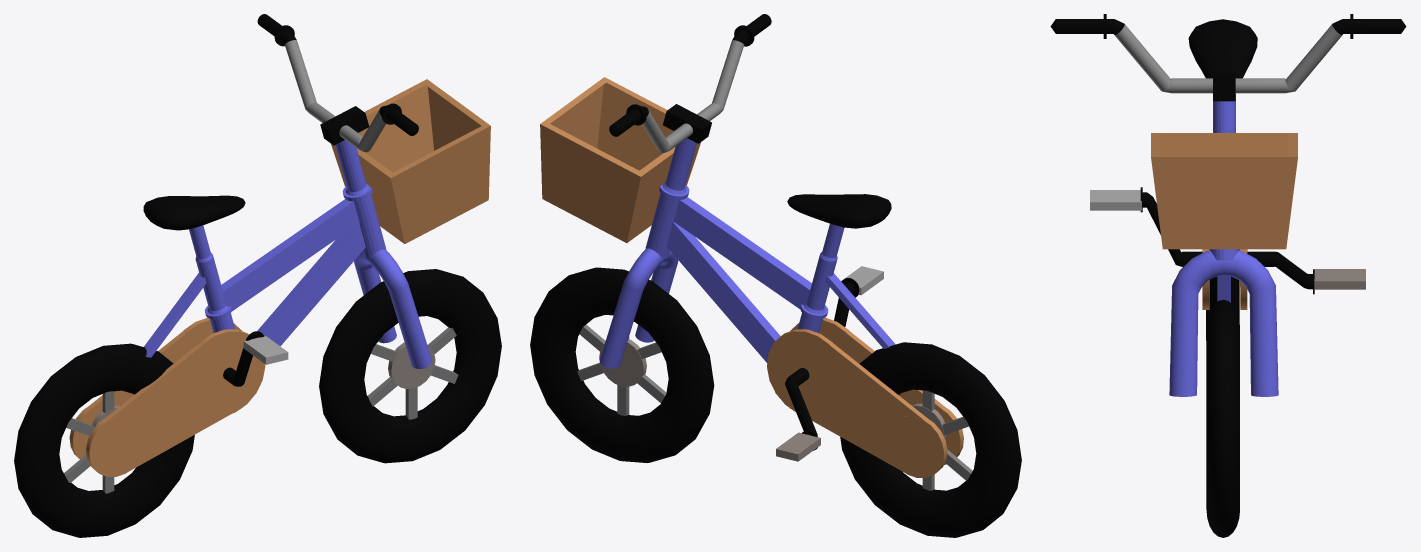
File: cycle.fbx
3 renders of one model, left to right at view 1: azimuth 30°, elevation 25°; view 2: azimuth 150°, elevation 25°; view 3: azimuth 270°, elevation 25°, orthographic. The views are drawn at different scales.
Visible parts, largest first — view 1: pTorus2, pTorus3, pCube6, pCylinder5, pCube1, pCube2, pTorus1, pCube4, pCylinder1, pCylinder6, pCylinder2, pCylinder8 (+8 smaller); view 2: pTorus2, pTorus3, pCube6, pCylinder6, pCube1, pCube2, pTorus1, pCube4, pCylinder1, pCylinder5, pCylinder2, pCylinder7 (+8 smaller); view 3: pCube6, pTorus1, pTorus2, pCube4, pCylinder8, pCylinder7, pCube15, pCube13, pCylinder1, pCylinder13, pCylinder11, pCube5 (+1 smaller).
Boxes of the visible parts, x1,y1,x2,y2 form: pTorus2: (319, 269, 501, 463); pTorus3: (14, 343, 194, 537); pCube6: (331, 79, 490, 243); pCylinder5: (86, 329, 265, 476); pCube1: (221, 199, 359, 311); pCube2: (257, 223, 365, 346); pTorus1: (354, 249, 432, 368); pCube4: (143, 195, 245, 230); pCylinder1: (335, 140, 386, 258); pCylinder6: (69, 317, 242, 458); pCylinder2: (189, 225, 234, 332); pCylinder8: (257, 14, 335, 122); pTorus2: (530, 267, 714, 462); pTorus3: (840, 342, 1021, 537); pCube6: (540, 77, 700, 243); pCylinder6: (767, 329, 947, 477); pCube1: (673, 197, 811, 308); pCube2: (666, 222, 780, 362); pTorus1: (599, 248, 678, 368); pCube4: (787, 194, 891, 228); pCylinder1: (645, 138, 696, 257); pCylinder5: (790, 317, 963, 464); pCylinder2: (797, 223, 844, 332); pCylinder7: (697, 14, 771, 120); pCube6: (1151, 133, 1297, 249); pTorus1: (1169, 250, 1278, 396); pTorus2: (1206, 299, 1239, 537); pCube4: (1188, 19, 1257, 78); pCylinder8: (1235, 14, 1406, 93); pCylinder7: (1050, 14, 1212, 93); pCube15: (1314, 269, 1365, 289); pCube13: (1090, 190, 1141, 210); pCylinder1: (1210, 94, 1238, 260); pCylinder13: (1247, 251, 1314, 294); pCylinder11: (1140, 187, 1202, 266); pCube5: (1213, 73, 1235, 101).
Size of the model in its own units: 5.72 by 4.63 by 3.16.
